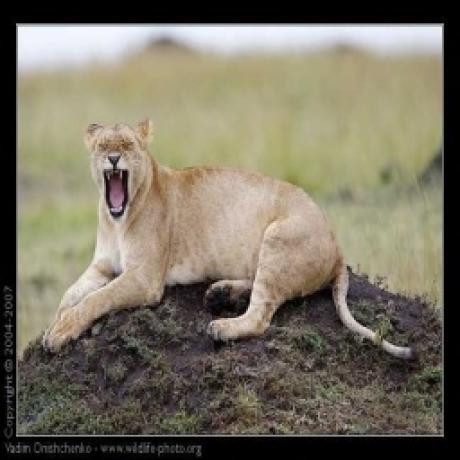Lion: (47, 118, 419, 365)
